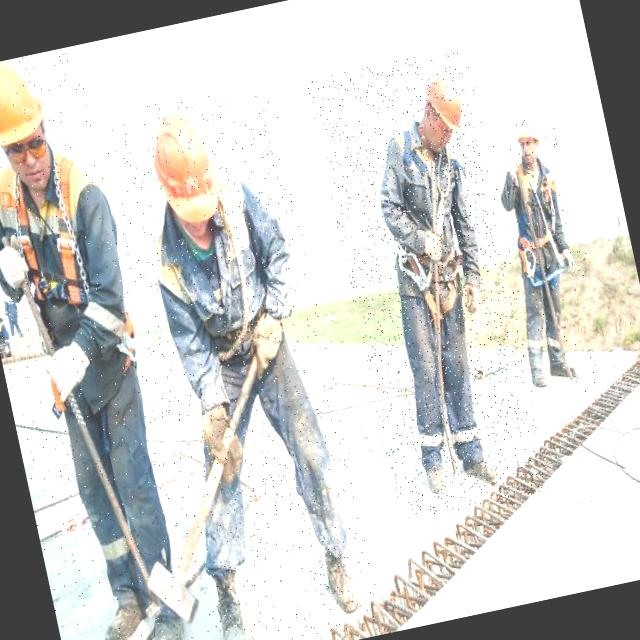boots: (308, 530, 379, 629), (193, 560, 273, 640), (77, 565, 160, 640), (129, 579, 202, 640), (443, 431, 510, 494), (411, 437, 462, 515), (514, 349, 560, 406), (541, 341, 591, 393)
helmet: (129, 91, 242, 234), (408, 60, 487, 156), (0, 52, 62, 161), (508, 110, 560, 158)
